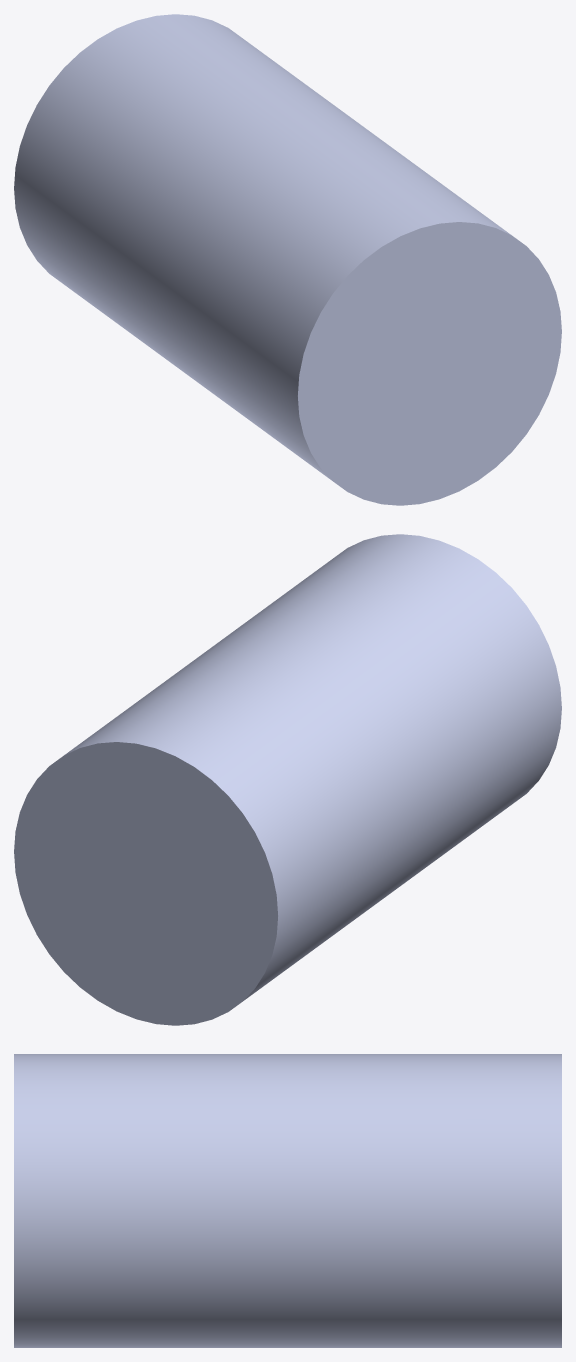
3 renders of one model, top to bottom at view 1: azimuth 30°, elevation 25°; view 2: azimuth 150°, elevation 25°; view 3: azimuth 270°, elevation 25°, orthographic. The views are drawn at different scales.
Parts seen in each view (by area): view 1: Actor0; view 2: Actor0; view 3: Actor0.
Boxes of the visible parts, x1,y1,x2,y2 form: Actor0: (14, 14, 561, 505); Actor0: (14, 534, 561, 1025); Actor0: (14, 1054, 561, 1347).
Bounding box in the file's own units: 0.0825 × 0.0823 × 0.1535.
